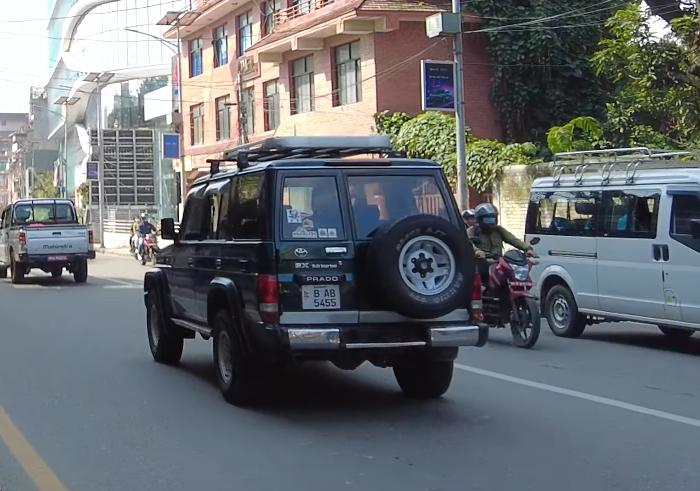SUV: (136, 129, 491, 411)
bike: (474, 235, 549, 352)
micro_bus: (519, 143, 700, 349)
